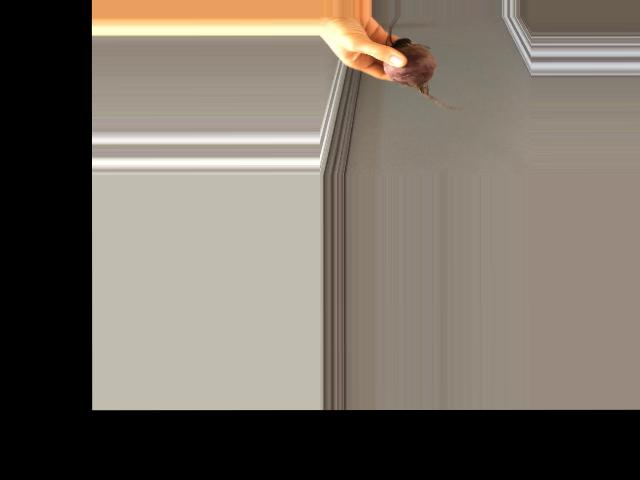beet: (383, 15, 463, 109)
